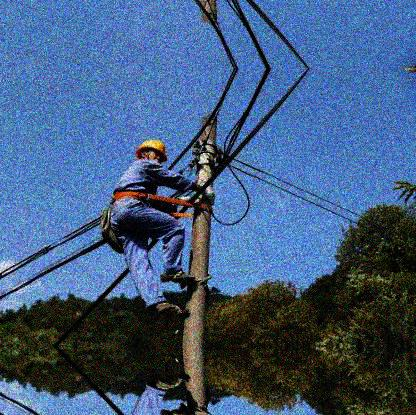helmet: (138, 139, 168, 164)
